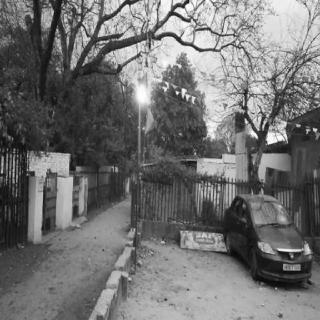other: (131, 76, 153, 112)
